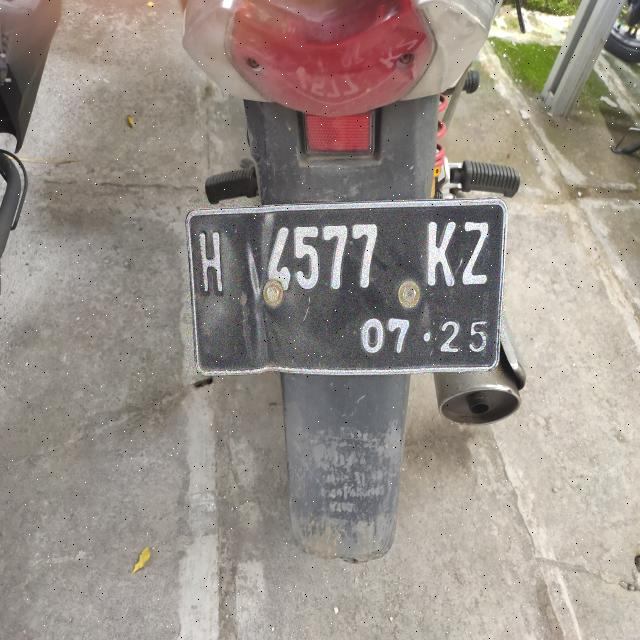plate: (187, 200, 505, 374)
